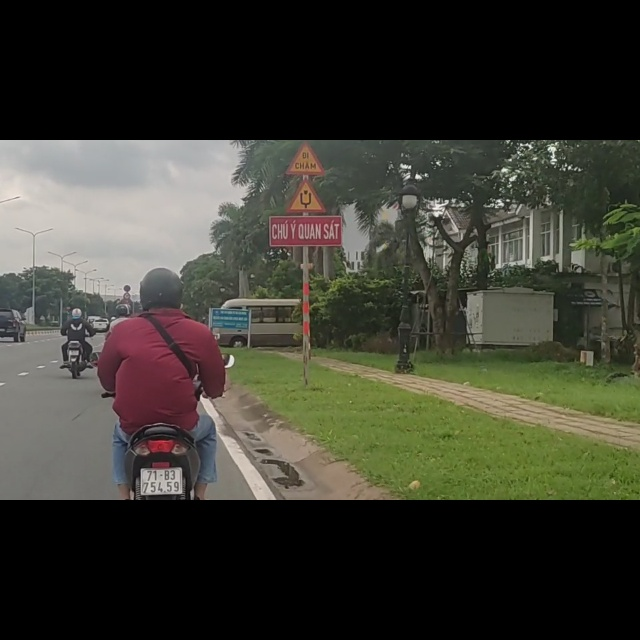bien_cam: (286, 68, 326, 129), (285, 4, 325, 62), (123, 256, 132, 270), (65, 301, 71, 312), (65, 294, 71, 302)
